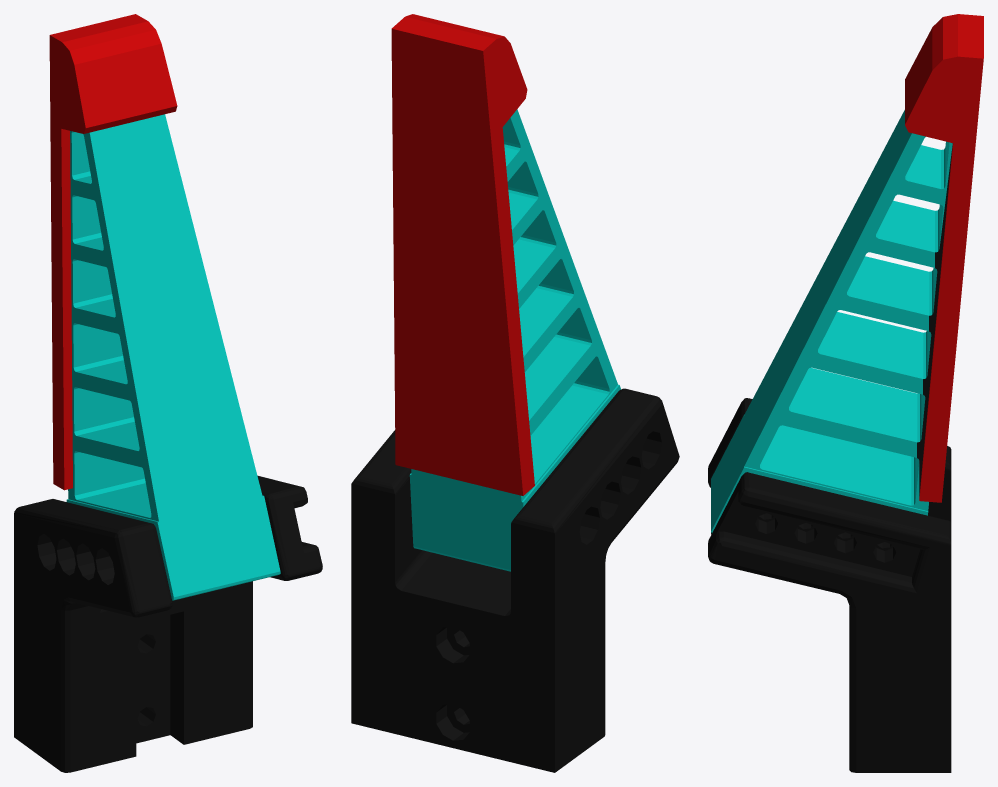
File: pad_link_soft.obj
3 views of the same model, side by side, from view 1: azimuth 30°, elevation 25°; view 2: azimuth 150°, elevation 25°; view 3: azimuth 270°, elevation 25° (orthographic). The views are drawn at different scales.
Visible parts, largest first — view 1: sz_sw0001; view 2: sz_sw0001; view 3: sz_sw0001.
Boxes of the visible parts, left/top/right/bottom form: sz_sw0001: left=14, top=14, right=322, bottom=772; sz_sw0001: left=351, top=14, right=679, bottom=772; sz_sw0001: left=708, top=14, right=983, bottom=772.
Bounding box in the file's own units: 0.033 × 0.112 × 0.0406.
